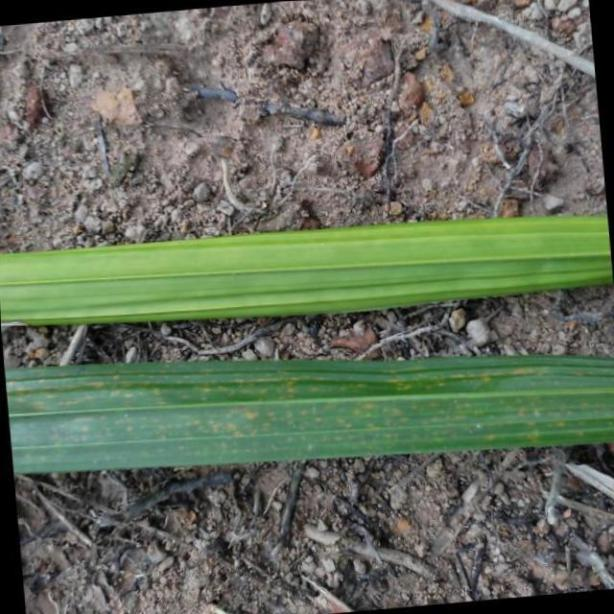nitrogen: (0, 360, 614, 478), (0, 216, 614, 328)
